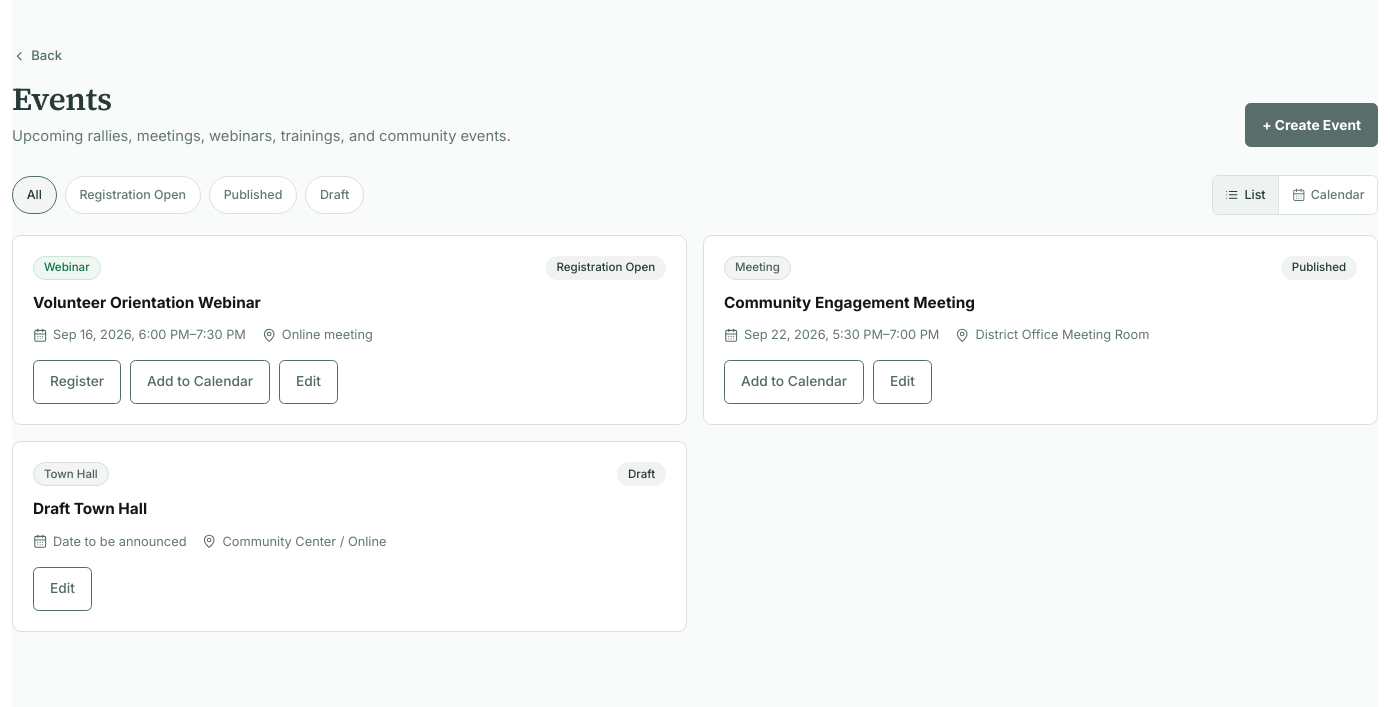
Test: Events › edits a selected event and reloads the administrator collection
The width and height of the screenshot is (1390, 707).
Later steps or results of the test are not shown.
Check: the element "Draft Town Hall" is shown, box left=12, top=441, right=687, bottom=632
Click the button "Edit" below "Date to be announced" at (62, 588), box left=33, top=566, right=92, bottom=610
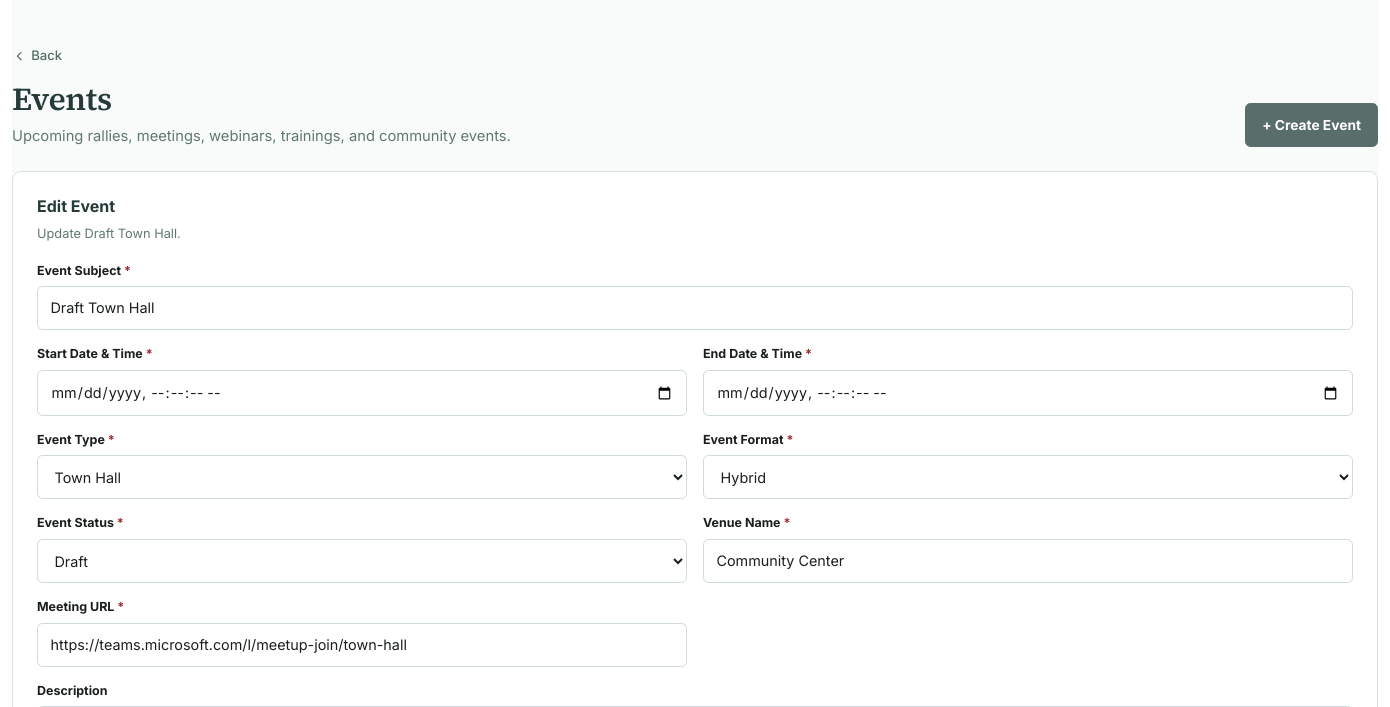
Check: the field labelled "Event Subject" holds "Draft Town Hall", box left=37, top=286, right=1353, bottom=330
